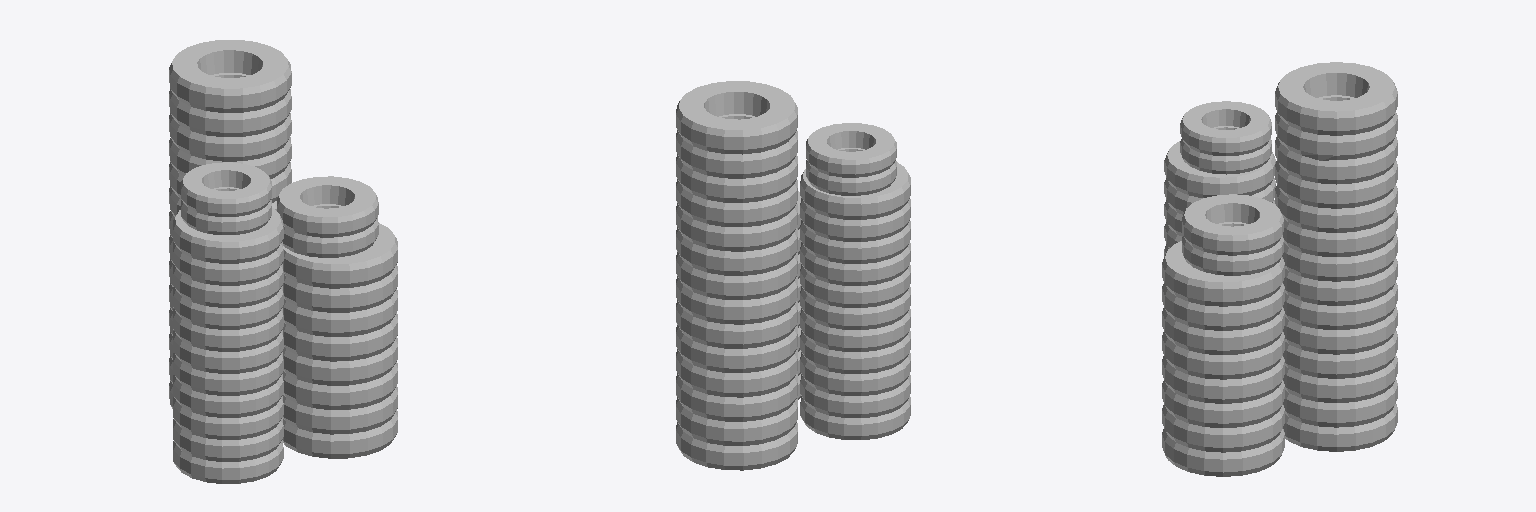
The model's file is snipertower.obj.
3 views of the same model, side by side, from view 1: azimuth 30°, elevation 25°; view 2: azimuth 150°, elevation 25°; view 3: azimuth 270°, elevation 25° (orthographic).
Visible parts, largest first — view 1: snipertower; view 2: snipertower; view 3: snipertower.
Boxes of the visible parts, box(x1,y1,x2,y2) form: snipertower: box(169, 40, 397, 483); snipertower: box(676, 81, 910, 470); snipertower: box(1162, 62, 1397, 476).
Size of the model in its own units: 0.6315 by 0.9685 by 0.6082.